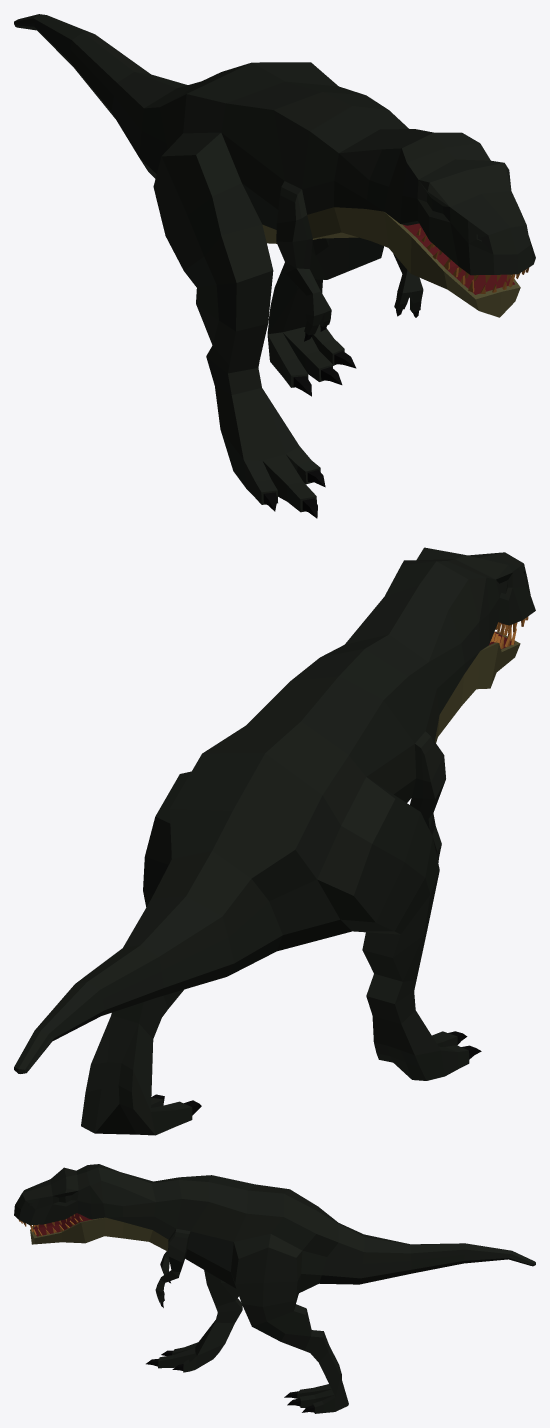
Rendered from Trex_000016.obj.
The picture shows the model from 3 angles, top to bottom: view 1: azimuth 30°, elevation 25°; view 2: azimuth 150°, elevation 25°; view 3: azimuth 270°, elevation 25°; orthographic projection. The views are drawn at different scales.
Parts seen in each view (by area): view 1: Trex_Cylinder; view 2: Trex_Cylinder; view 3: Trex_Cylinder.
Boxes of the visible parts, x1,y1,x2,y2 form: Trex_Cylinder: [14, 14, 535, 518]; Trex_Cylinder: [14, 547, 535, 1135]; Trex_Cylinder: [14, 1164, 535, 1413].
Bounding box in the file's own units: 8.25 × 14.37 × 31.25.
